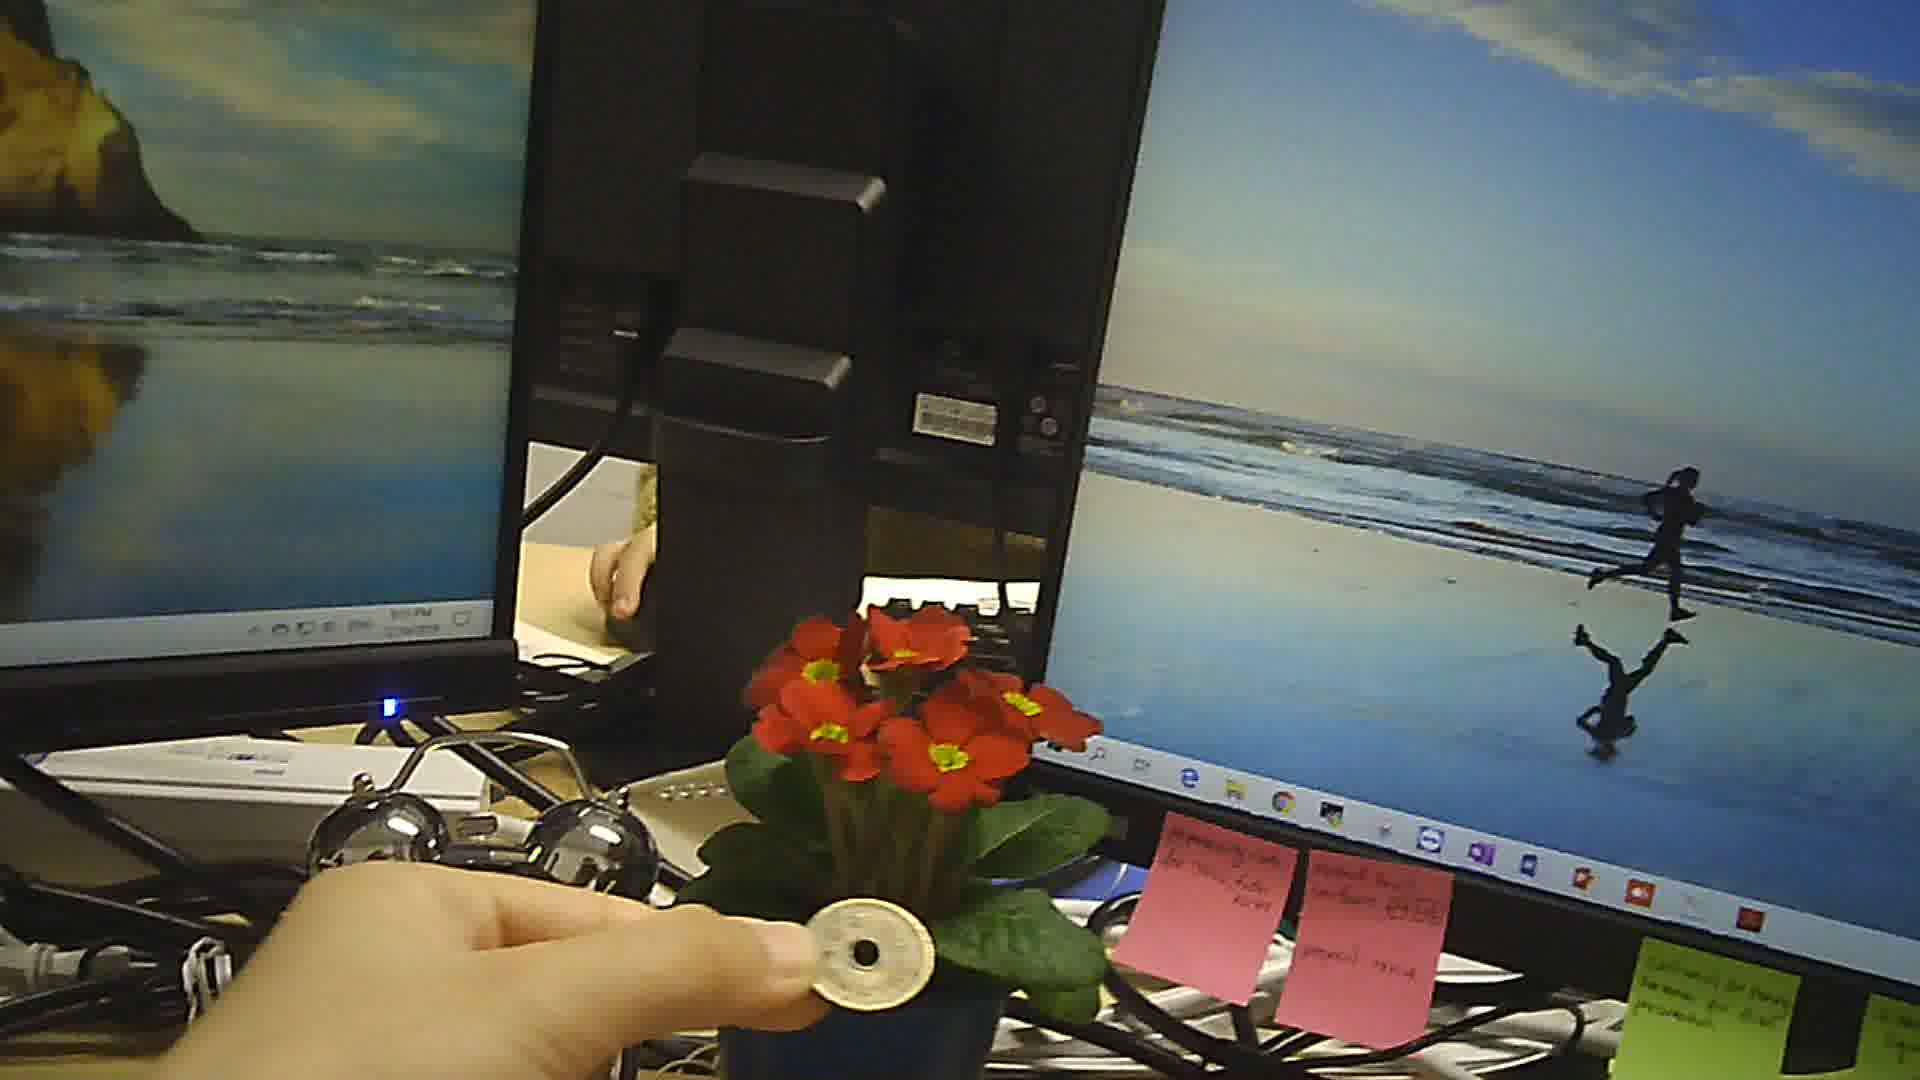5 Yen: (783, 889, 942, 1013)
